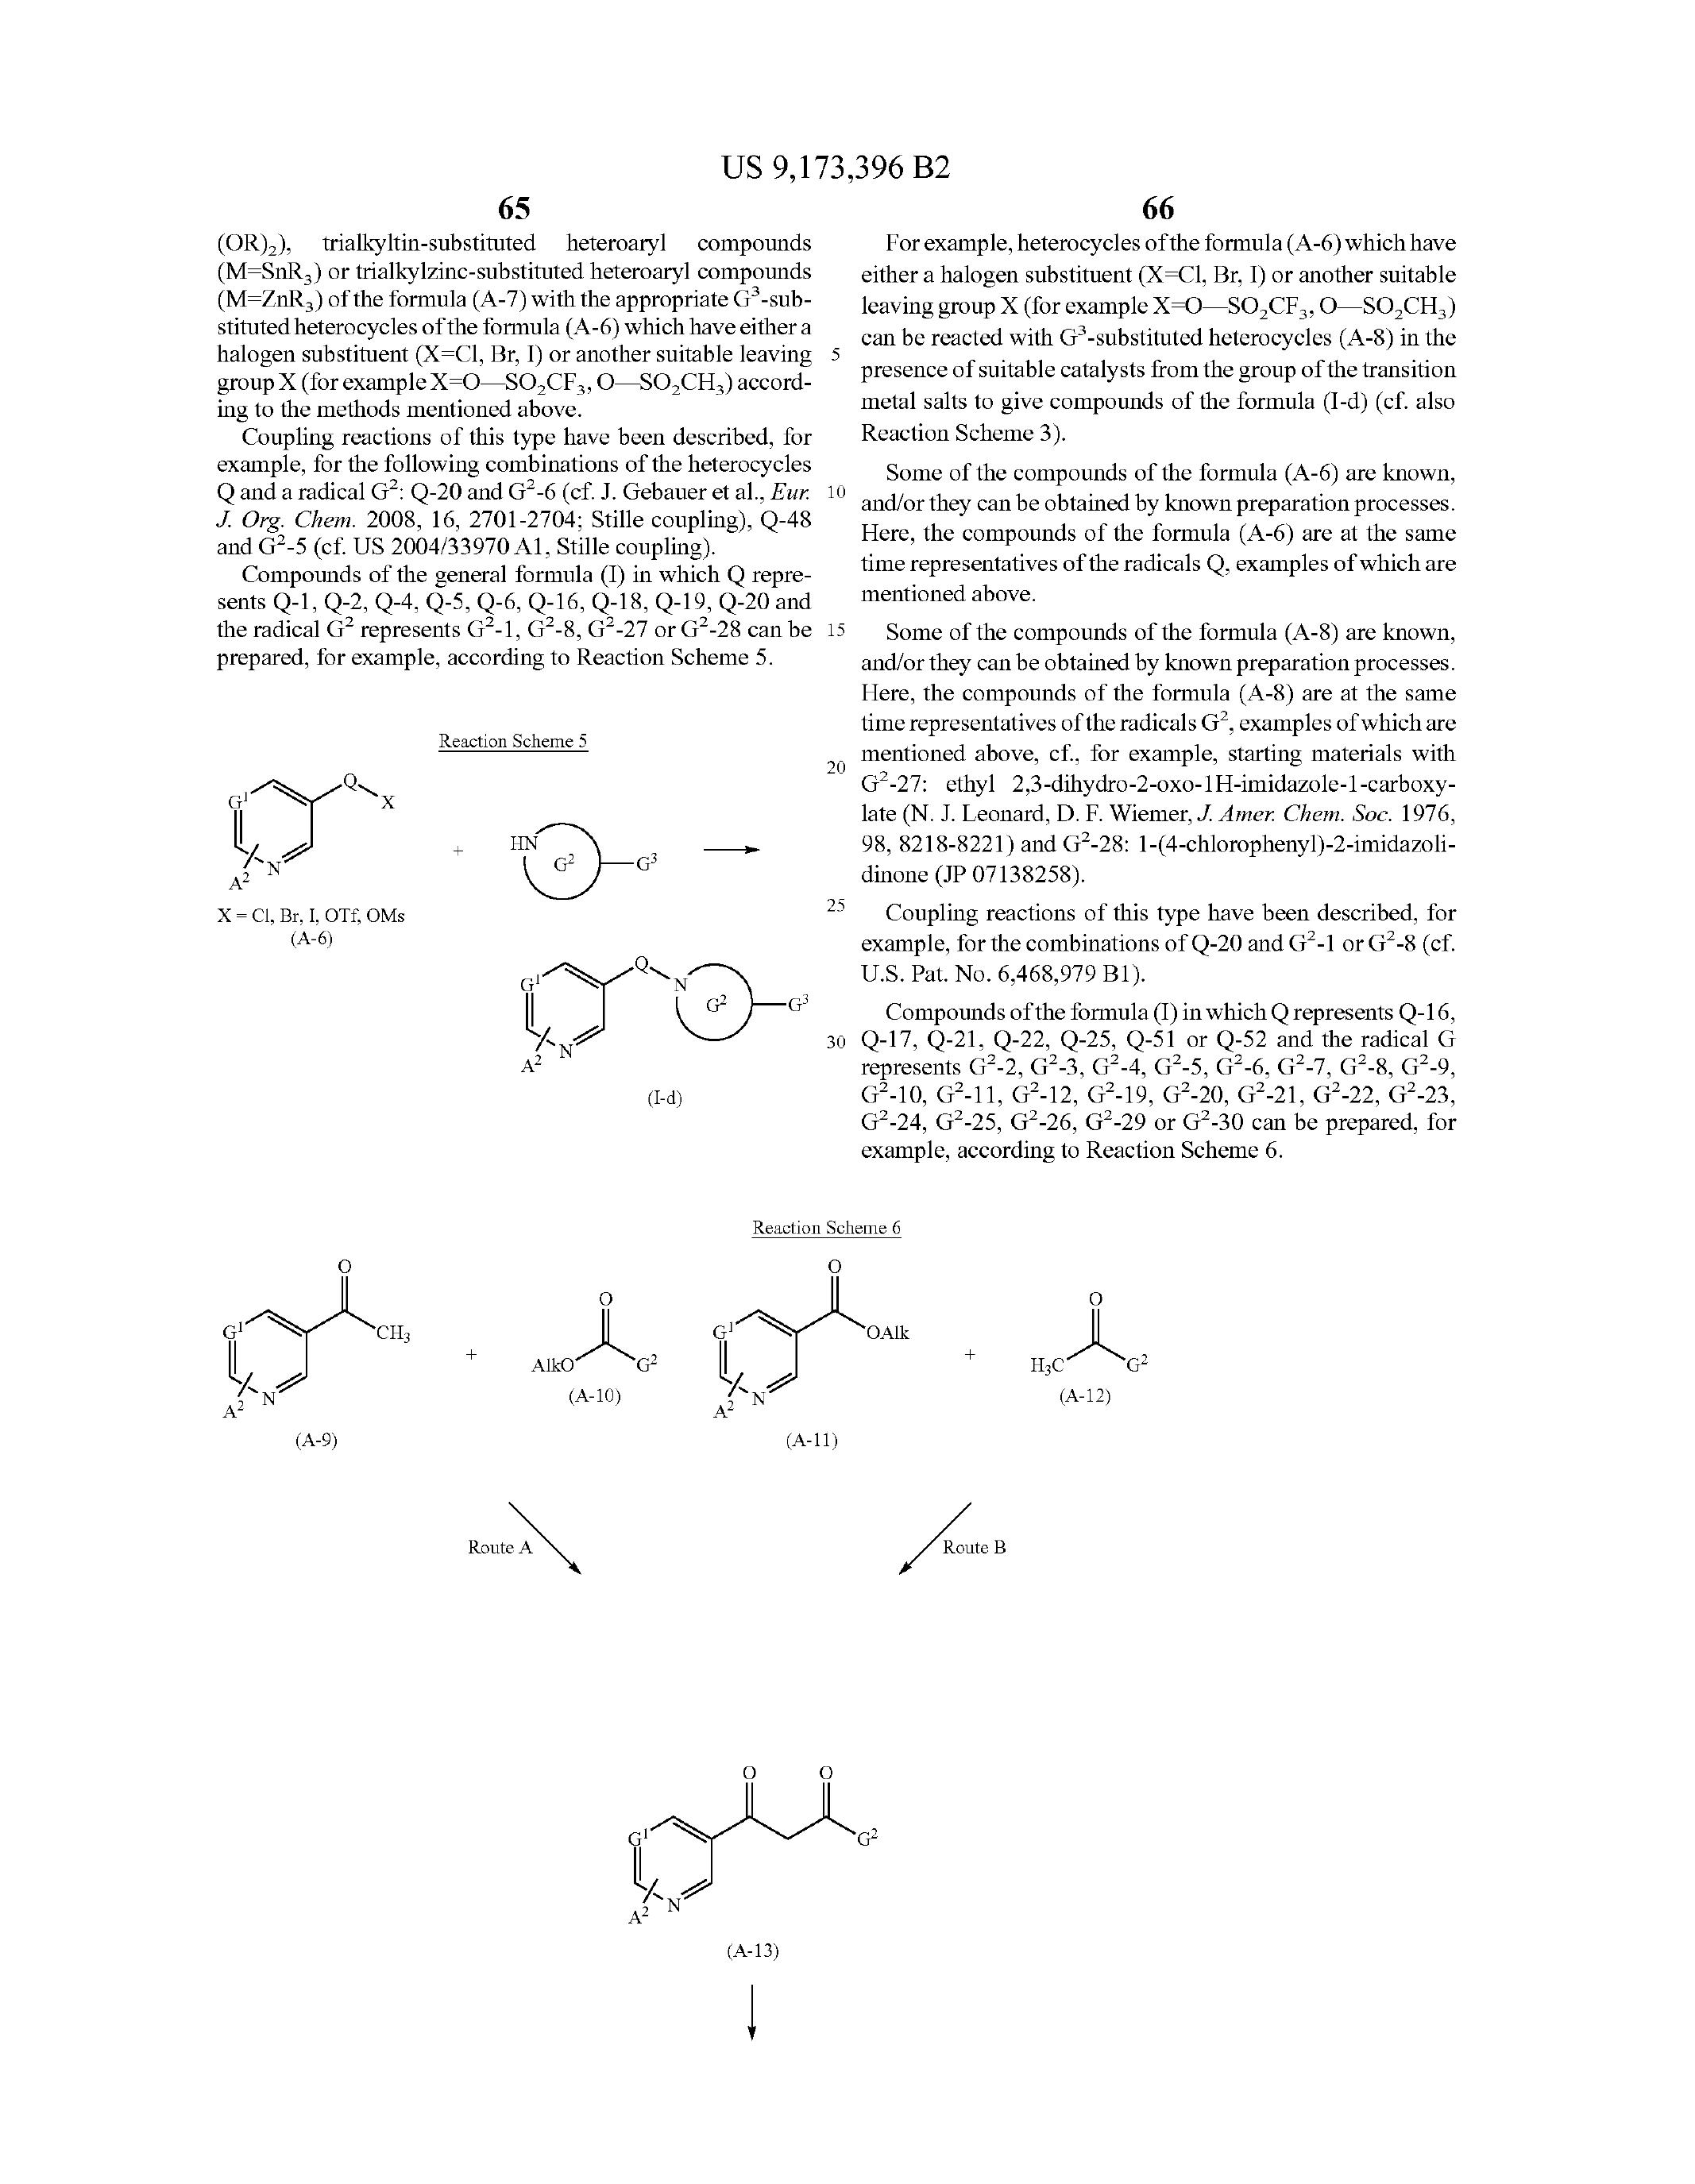reactions: (112, 1131, 1252, 2071)
